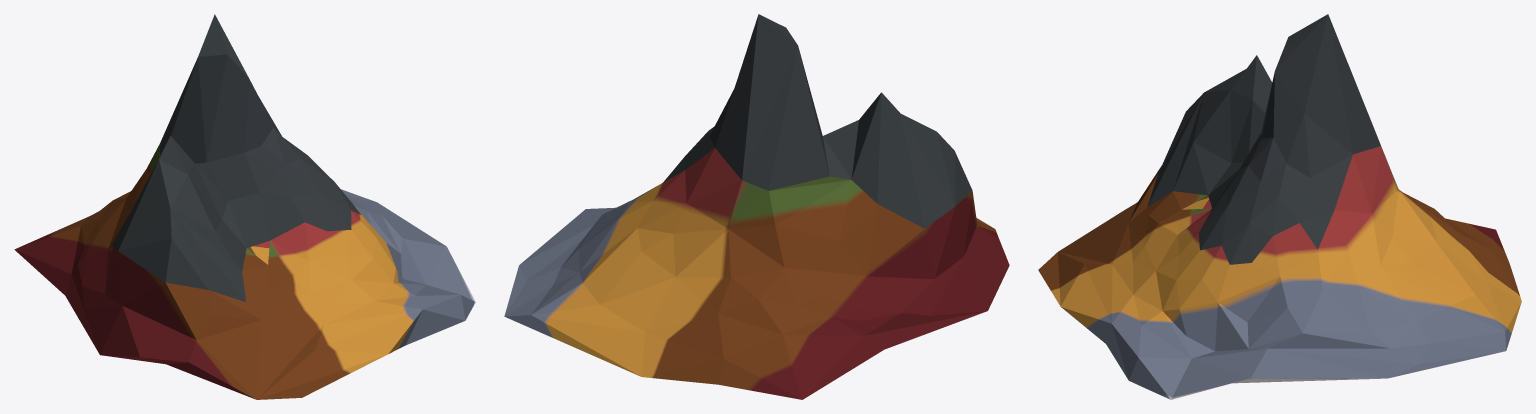
Rendered from Mountain_02.fbx.
3 views of the same model, side by side, from view 1: azimuth 30°, elevation 25°; view 2: azimuth 150°, elevation 25°; view 3: azimuth 270°, elevation 25° (orthographic). The views are drawn at different scales.
Visible parts, largest first — view 1: Mountain_02; view 2: Mountain_02; view 3: Mountain_02.
Part boxes in pixels (x1,y1,x2,y2): Mountain_02: (14, 14, 475, 399); Mountain_02: (504, 14, 1009, 399); Mountain_02: (1038, 14, 1521, 399).
Bounding box in the file's own units: 71.7 × 53.38 × 80.37.
